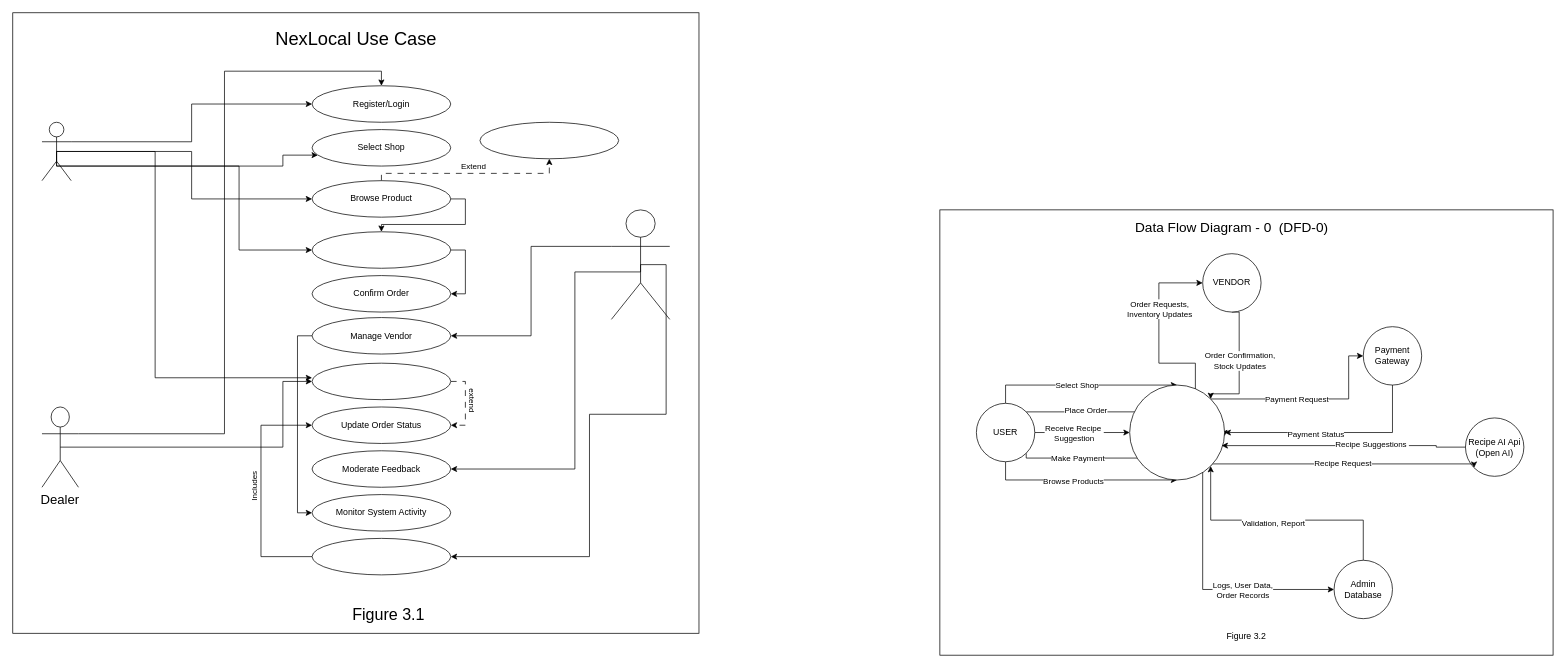
This 1566x668 diagram has some shape labels left out. Each missing label, with the centre of its shape:
"Add to Cart" belongs at point (381, 249).
"Admin" belongs at point (640, 264).
"Customer" belongs at point (56, 151).
"Manage Users" belongs at point (381, 556).
"NexLocal System (Process 1)" belongs at point (1177, 432).
"Request Recipe" belongs at point (549, 140).
"View Order" belongs at point (381, 381).
